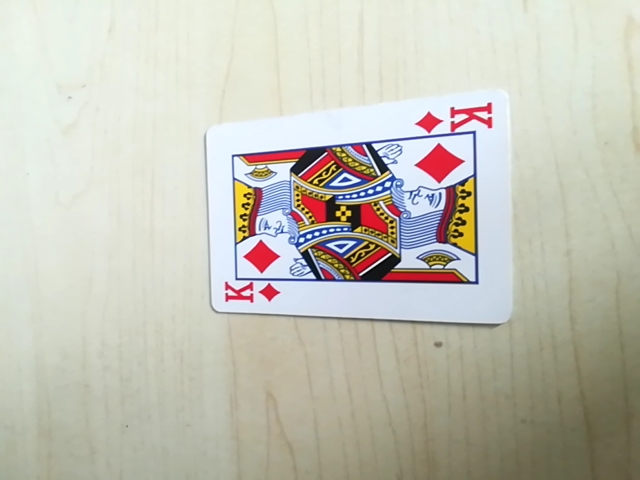fk k: (417, 96, 496, 137), (219, 279, 285, 311)
